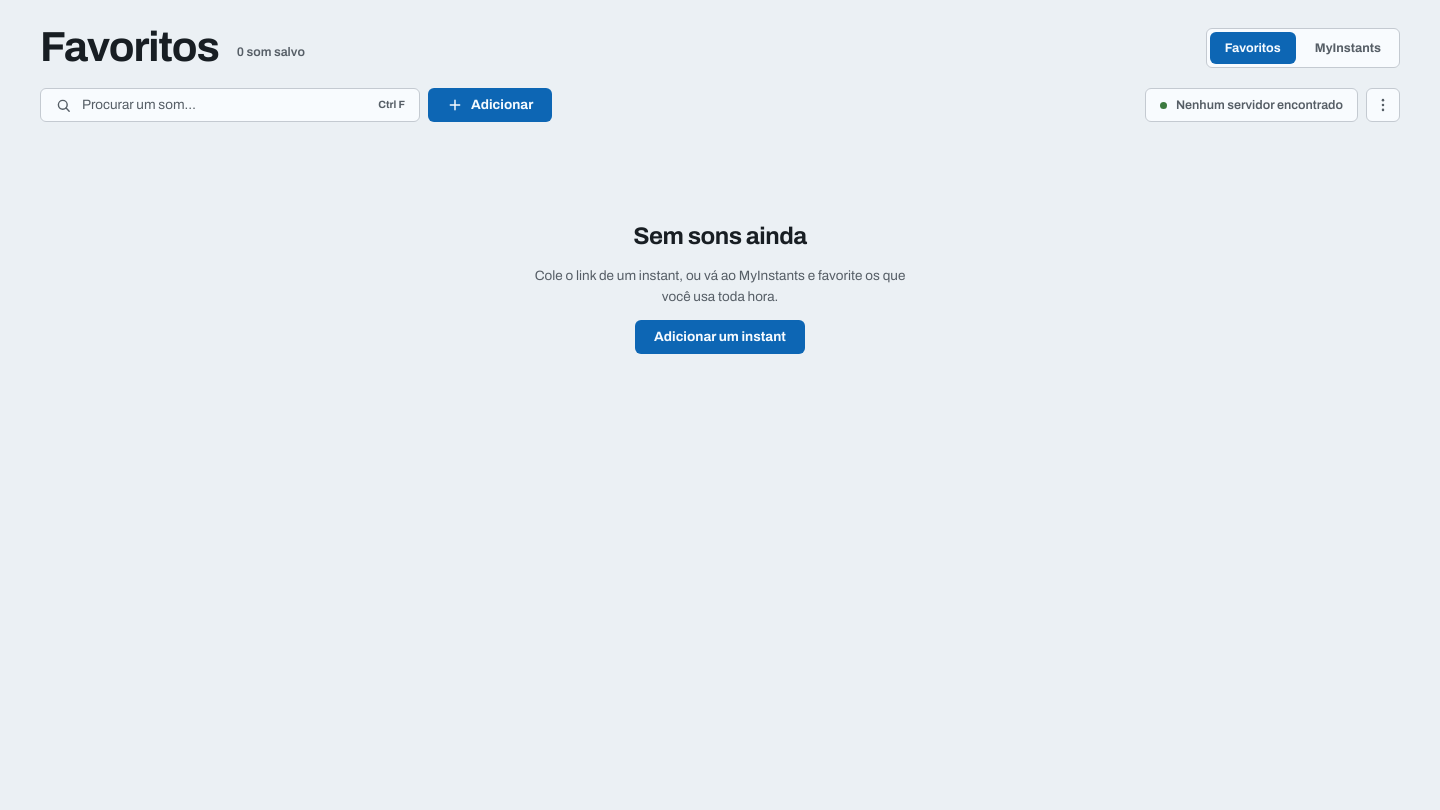
Test case: shell › opens Aparência on what is in use, with focus on the palette
Click the button named "Mais opções": (1383, 105) [1366,88,1400,122]
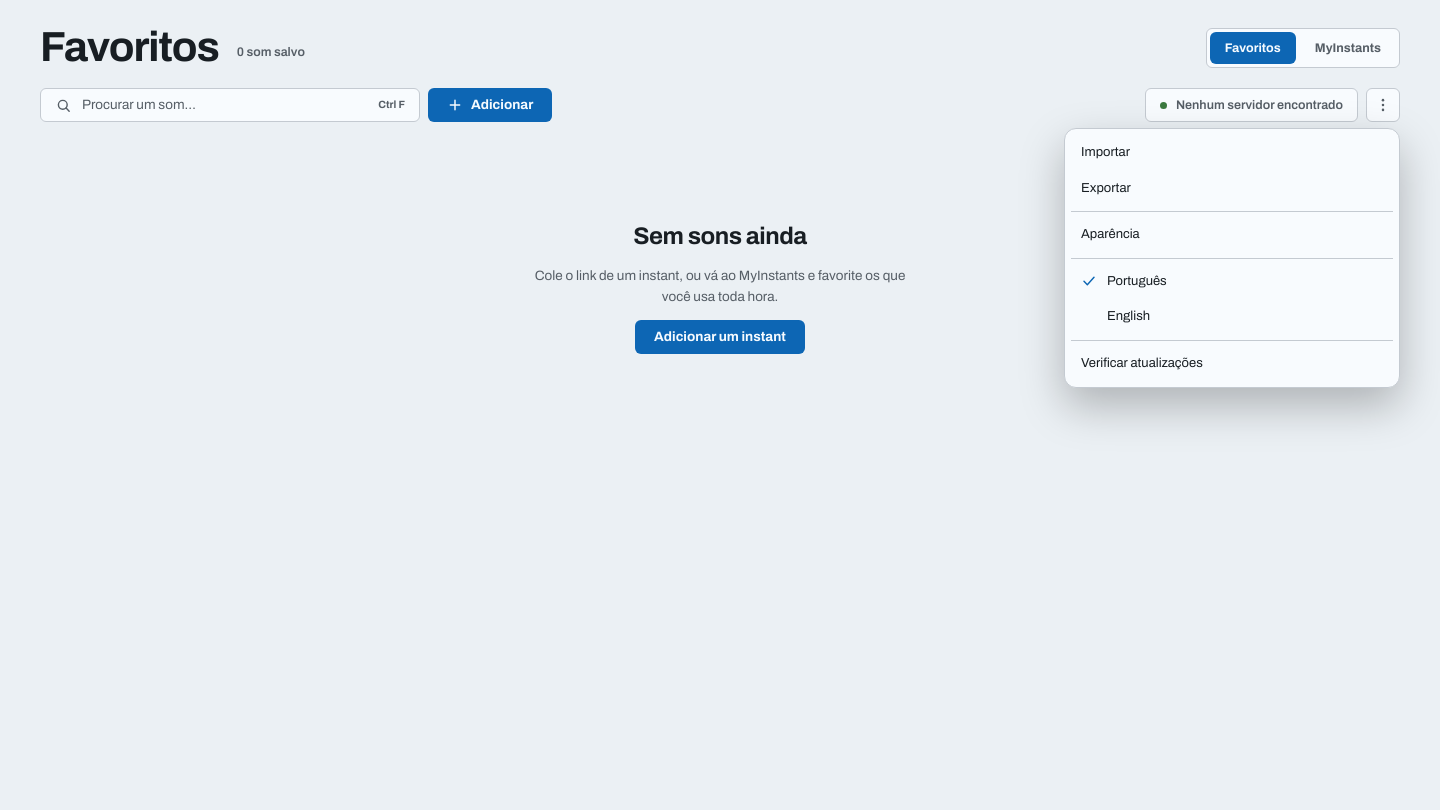
Click the menu item "Aparência": (1110, 234) [1081,227,1140,241]
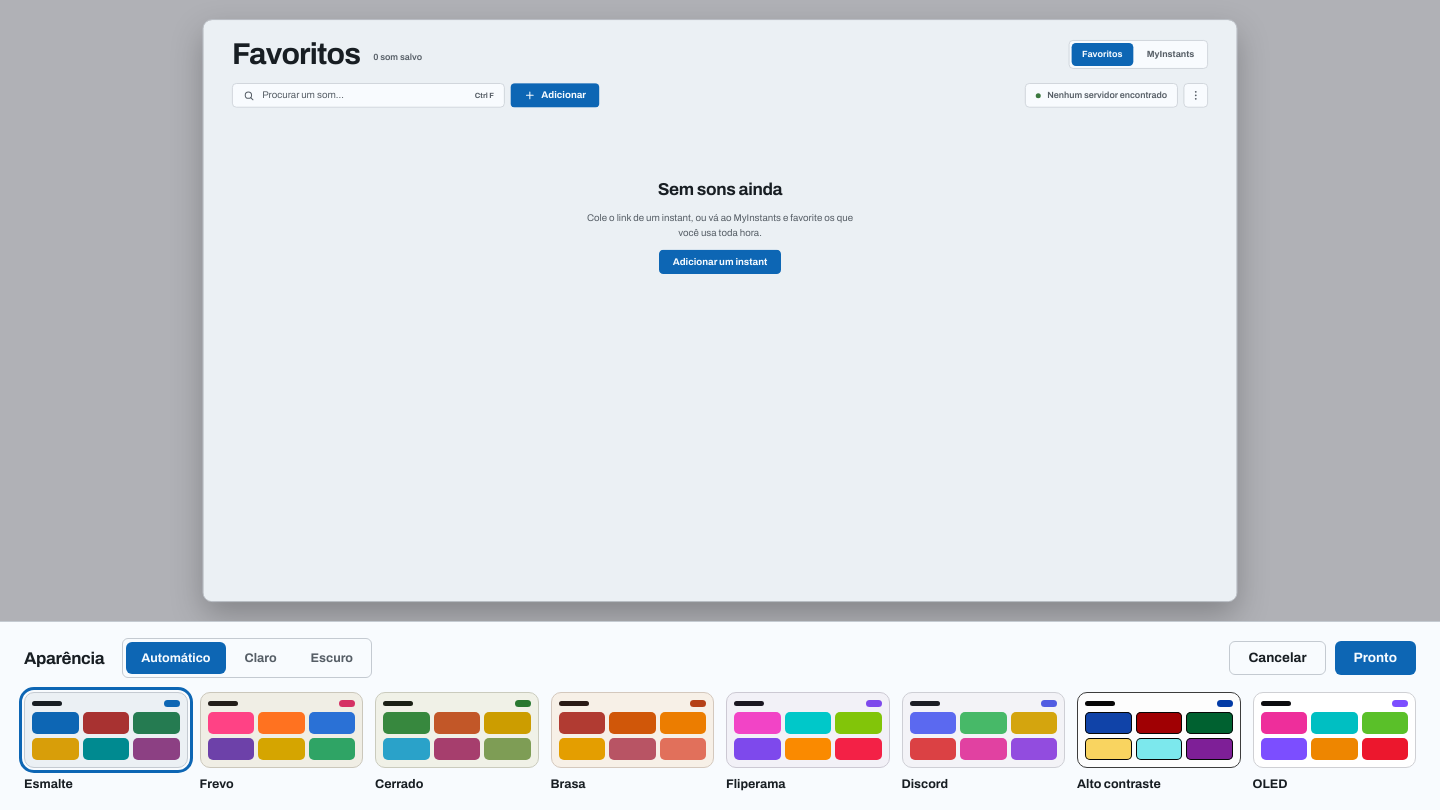
Now the radio button labelled "Automático" is checked, box [126,642,226,674]
Now the radio button labelled "Esmalte" is checked, box [24,692,188,794]
